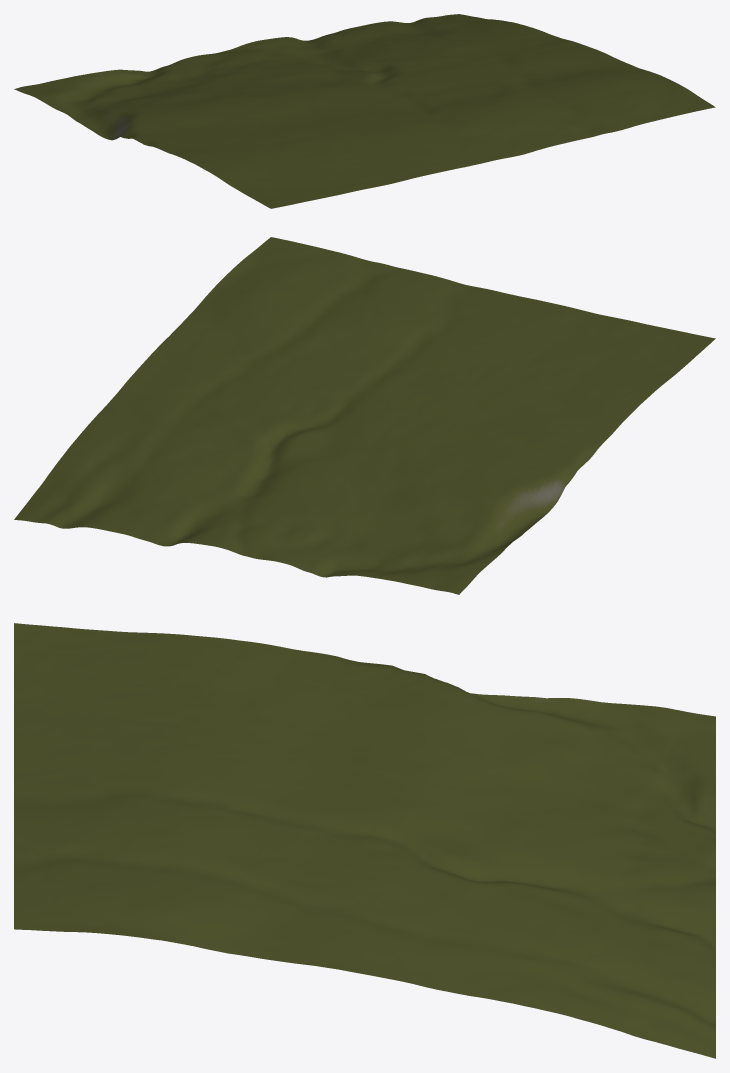
File: terrain_13_-9.glb
3 renders of one model, top to bottom at view 1: azimuth 30°, elevation 25°; view 2: azimuth 150°, elevation 25°; view 3: azimuth 270°, elevation 25°, orthographic. The views are drawn at different scales.
Visible parts, largest first — view 1: terrain_13_-9; view 2: terrain_13_-9; view 3: terrain_13_-9.
Part boxes in pixels (x1,y1,x2,y2): terrain_13_-9: [14, 14, 715, 208]; terrain_13_-9: [14, 237, 715, 594]; terrain_13_-9: [14, 623, 715, 1058].
Size of the model in its own units: 256 by 55.97 by 256.
